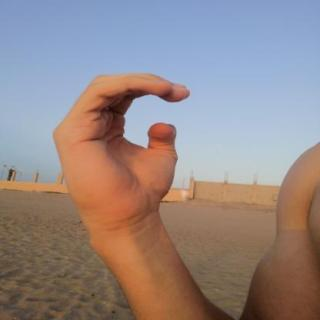JEEM: (35, 60, 198, 234)
